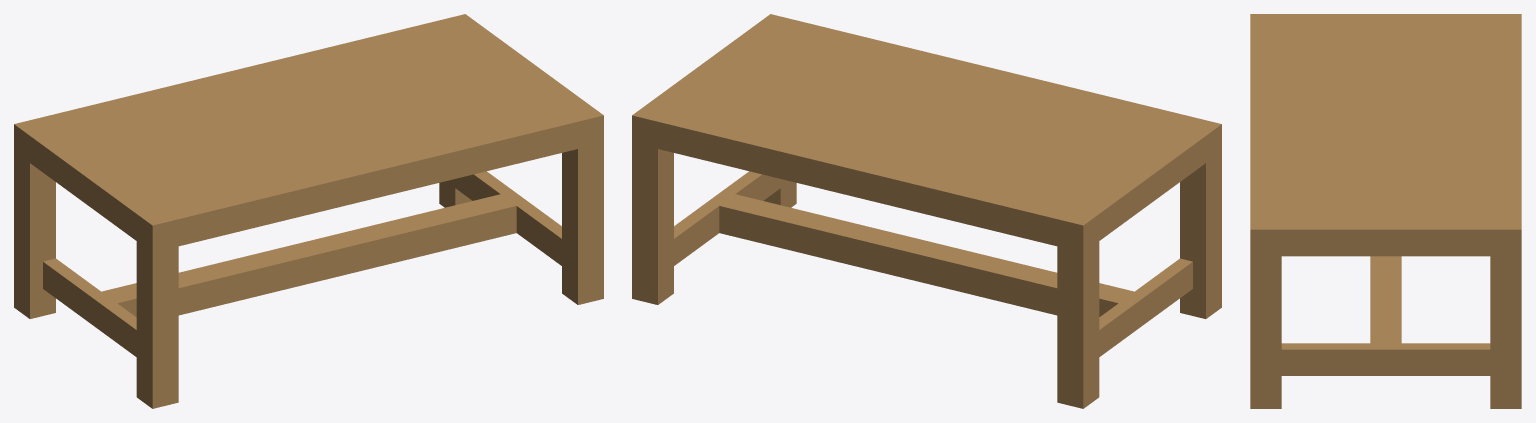
The model's file is table.glb.
3 renders of one model, left to right at view 1: azimuth 30°, elevation 25°; view 2: azimuth 150°, elevation 25°; view 3: azimuth 270°, elevation 25°, orthographic. The views are drawn at different scales.
Parts seen in each view (by area): view 1: table; view 2: table; view 3: table.
Boxes of the visible parts, x1,y1,x2,y2 form: table: [14, 14, 603, 408]; table: [632, 14, 1221, 408]; table: [1250, 14, 1521, 408].
Bounding box in the file's own units: 1.68 × 0.6535 × 0.8947.
